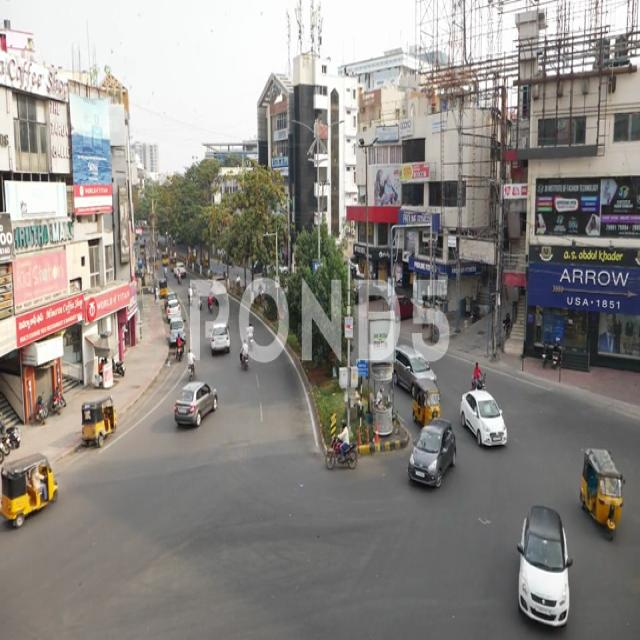car: (516, 507, 573, 636), (407, 422, 458, 490), (461, 388, 508, 457), (174, 377, 219, 434)
motorbike: (325, 423, 360, 477)
rikshaw: (0, 446, 58, 536), (579, 436, 625, 549), (84, 399, 119, 448)
